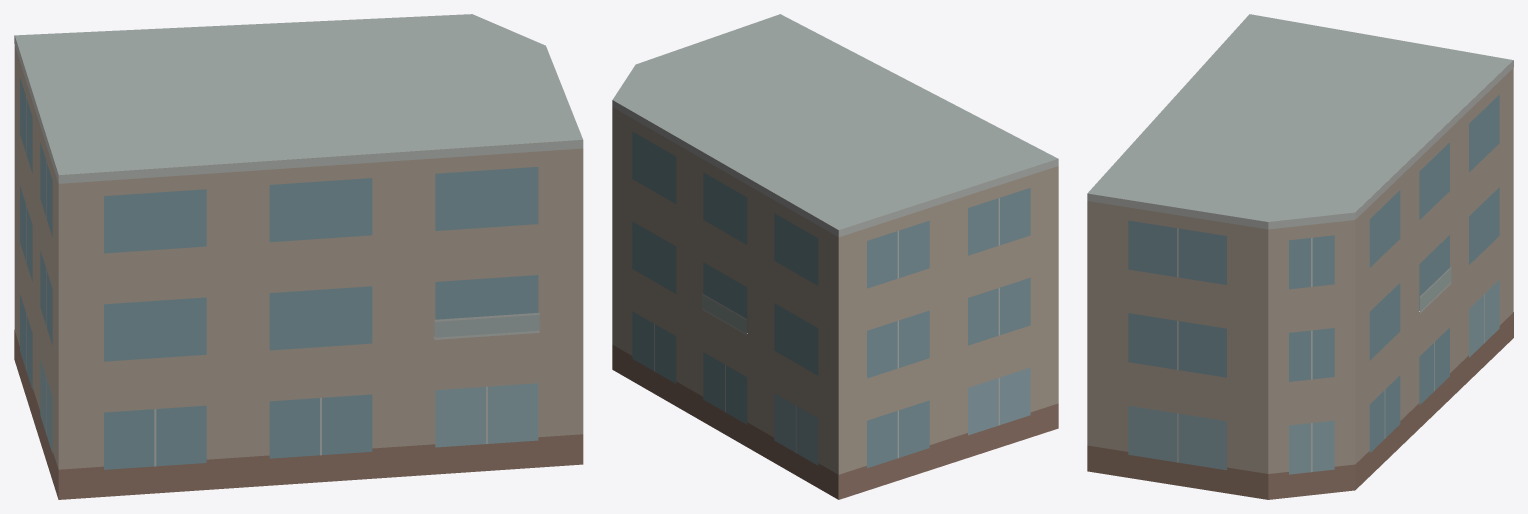
The model's file is survey-upis-33015513.glb.
3 views of the same model, side by side, from view 1: azimuth 30°, elevation 25°; view 2: azimuth 150°, elevation 25°; view 3: azimuth 270°, elevation 25° (orthographic). The views are drawn at different scales.
Parts seen in each view (by area): view 1: survey-upis-33015513.tmp; view 2: survey-upis-33015513.tmp; view 3: survey-upis-33015513.tmp.
Part boxes in pixels (<box>): survey-upis-33015513.tmp: <box>14,14,583,499</box>; survey-upis-33015513.tmp: <box>612,14,1058,499</box>; survey-upis-33015513.tmp: <box>1087,14,1513,499</box>.
Size of the model in its own units: 14.71 by 9.15 by 12.74.
